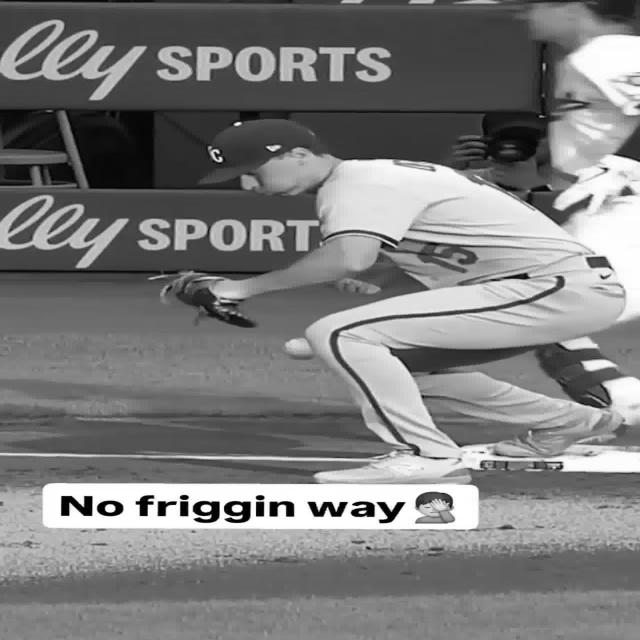base: (462, 442, 640, 472)
baseball: (284, 338, 316, 359)
baseball_glove: (151, 271, 256, 328)
shoe: (496, 410, 625, 458), (313, 450, 471, 484)
